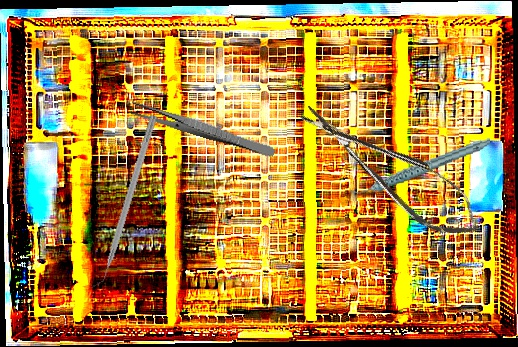Chopper: (87, 111, 158, 292)
Dressing Forceps: (127, 99, 278, 159)
Handpiece: (345, 137, 496, 196)
Micro Scissor: (292, 85, 490, 253)
